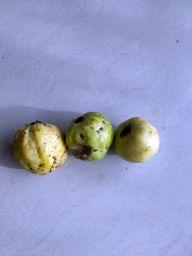guava: (8, 117, 69, 176), (66, 110, 114, 163), (113, 116, 161, 166)
